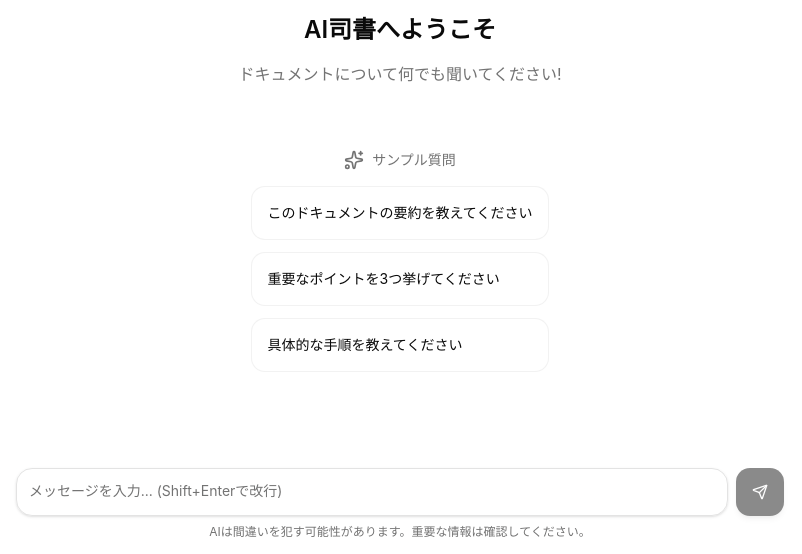
Scenario: ChatInterface › sends message when clicking suggested query
Click the button "このドキュメントの要約を教えてください": click(400, 213) [250,186,549,240]
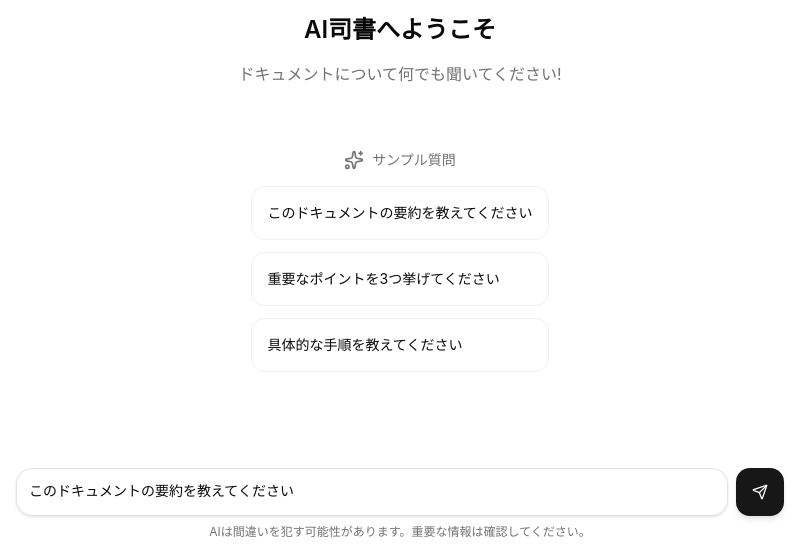
Now the text box with placeholder "メッセージを入力... (Shift+Enterで改行)" holds "このドキュメントの要約を教えてください", box [16,468,728,516]
